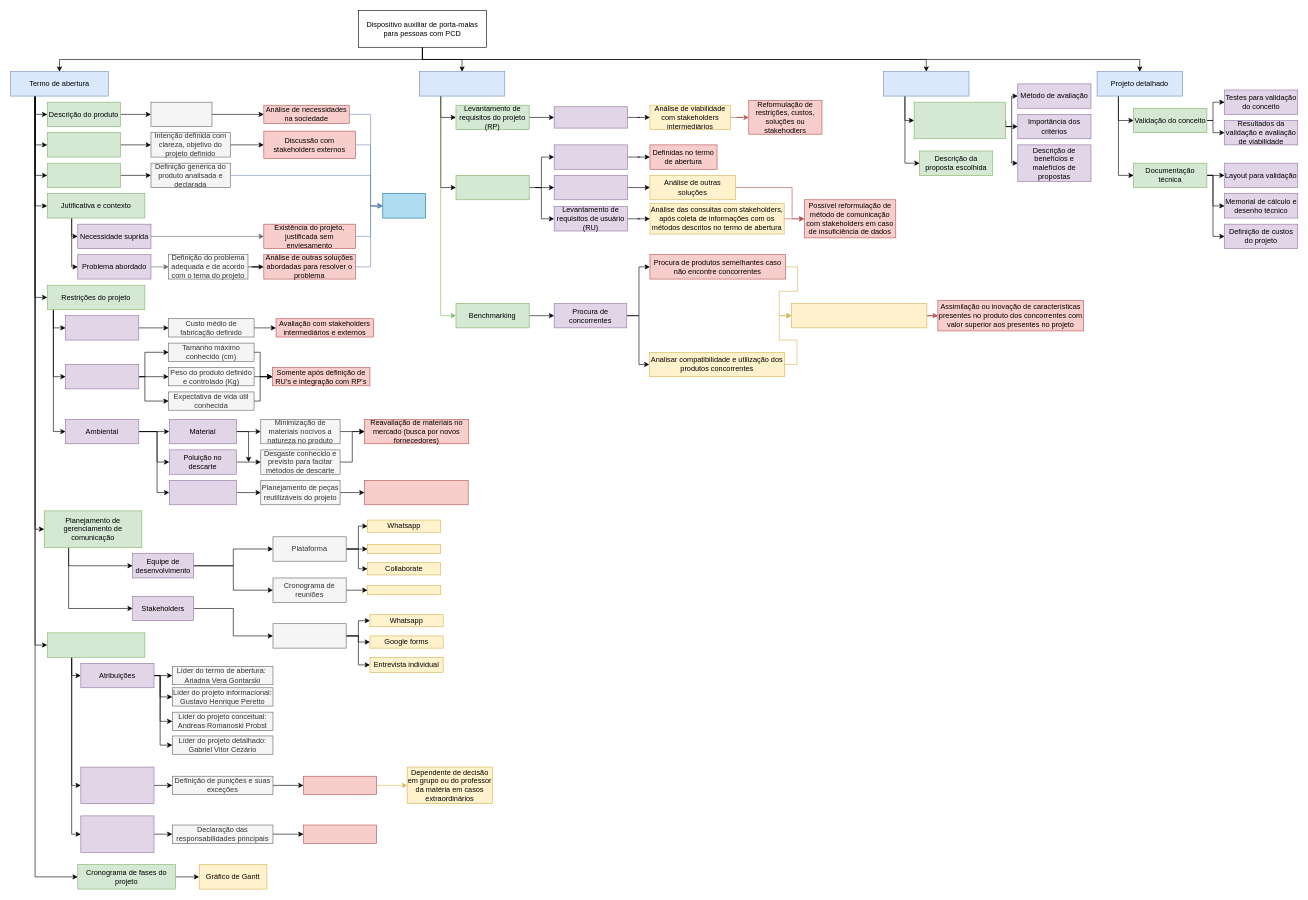
The diagram is 1308 pixels wide and 900 high, and some of its shapes have lost their labels. The box of each missing label's shape, as (x1, y1, x2, y2) in pixels:
Analisado e aceito pelos integrantes: (303, 824, 377, 843)
Análise das peças desenhadas (Projeto detalhado): (364, 480, 468, 505)
Análise de características identificadas como RU's e RP's dos concorrente: (791, 303, 927, 328)
Análise de restrições e custos: (554, 106, 627, 128)
Aplicação de punições: (303, 776, 377, 795)
Contrato de trabalho em grupo: (47, 632, 145, 657)
Definição da punição por falha na liderança de um estágio: (80, 766, 154, 804)
Definição das atribuições de cada lider: (80, 815, 154, 852)
Definição de formas de comunicação: (272, 623, 346, 648)
Definição de stakeholders: (455, 175, 529, 200)
Descrever o processo de eliminação e refinamento de propostas: (913, 102, 1006, 139)
Descrição completa e definida: (150, 102, 212, 127)
Discord: (367, 544, 441, 554)
Escopo do projeto: (382, 193, 425, 218)
Financeira: (65, 315, 139, 340)
Formas de comunicação: (554, 144, 627, 169)
Funcionamento generalizado: (47, 163, 120, 188)
Física: (65, 364, 139, 389)
Intuito do produto: (47, 132, 120, 157)
Levantamento de necessidades: (554, 175, 627, 200)
Projeto conceitual: (883, 71, 969, 96)
Projeto informacional: (419, 71, 505, 96)
Quinzenal: (367, 585, 441, 595)
Reusabilidade do produto e/ou peças: (169, 480, 236, 505)
